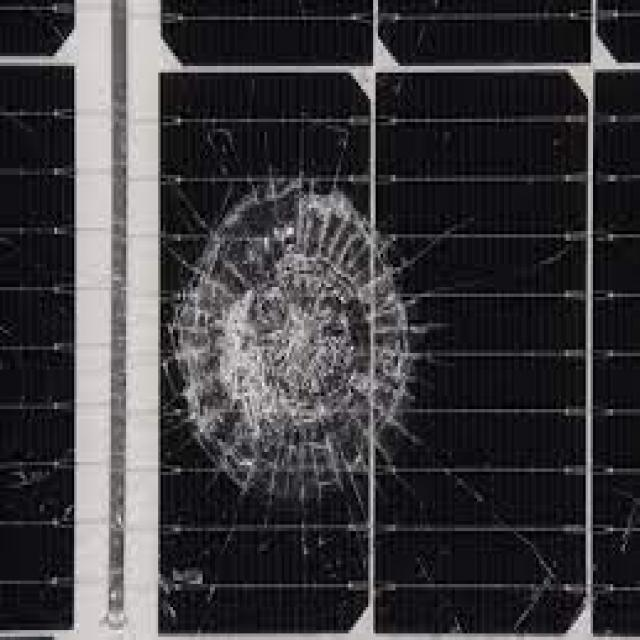faulty: (0, 3, 628, 627)
